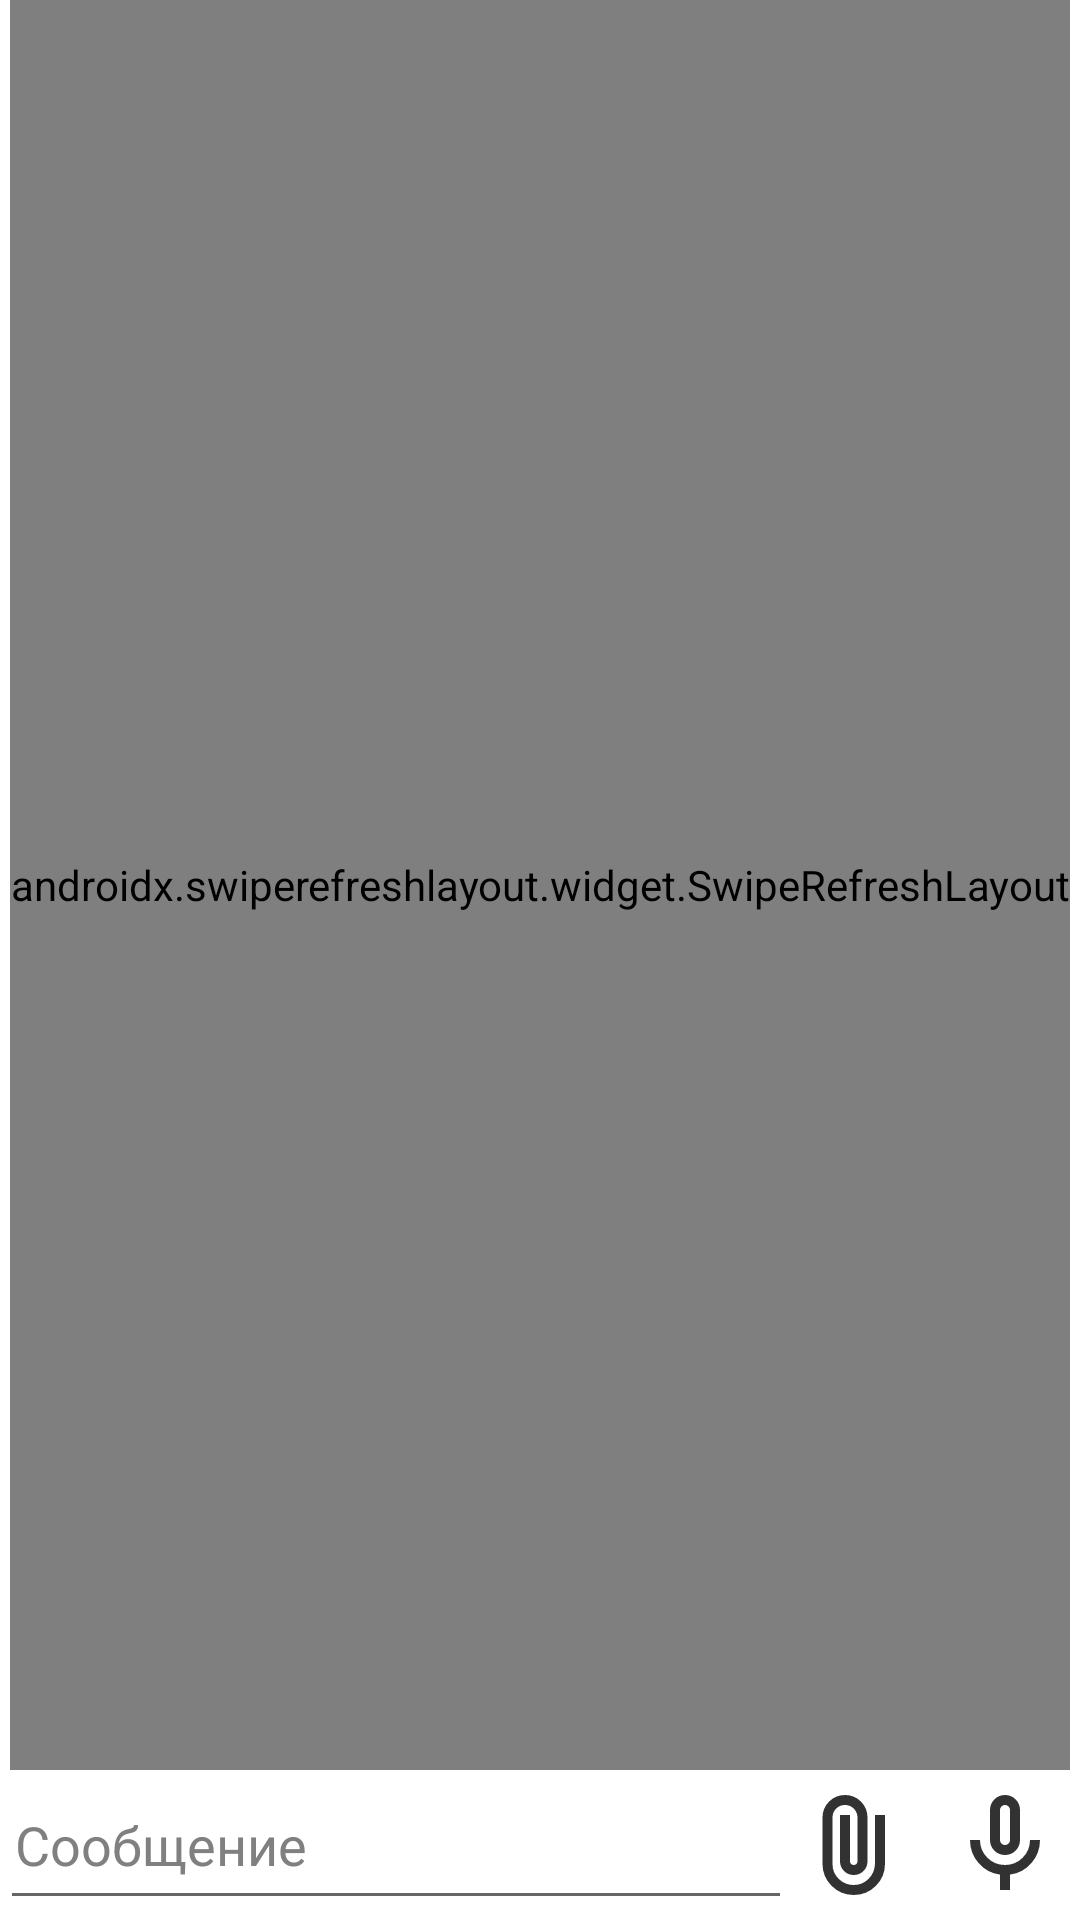

Locate icon controls on the screen. Image size 1080*1920, boxes as (x1, y1, x2, y2).
attach file: (822, 1795, 885, 1895)
voice: (970, 1795, 1040, 1890)
